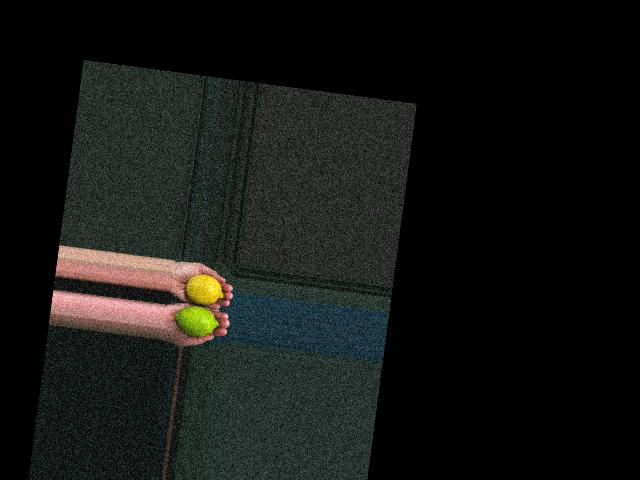lemon: (182, 272, 225, 307)
